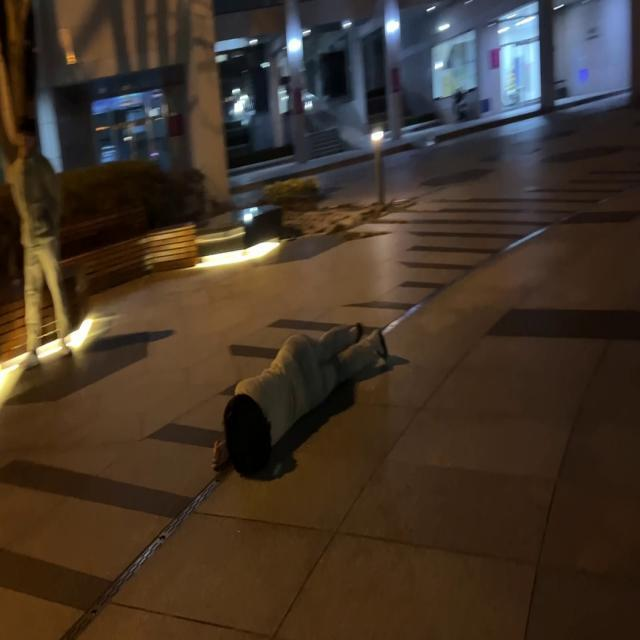Stand: (0, 118, 69, 368), (224, 395, 271, 476)
